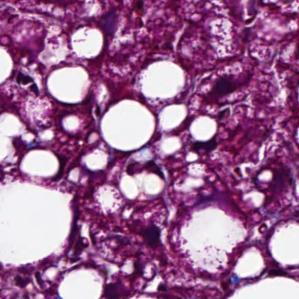inflammation: (74, 225, 169, 272), (122, 152, 169, 185), (7, 68, 47, 98)
